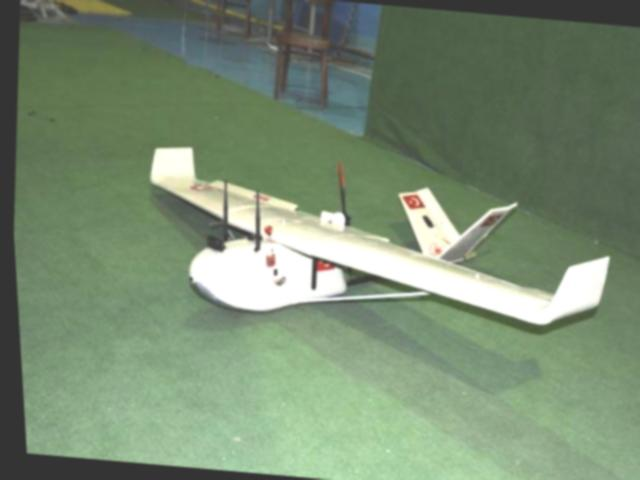iha: (112, 136, 633, 359)
